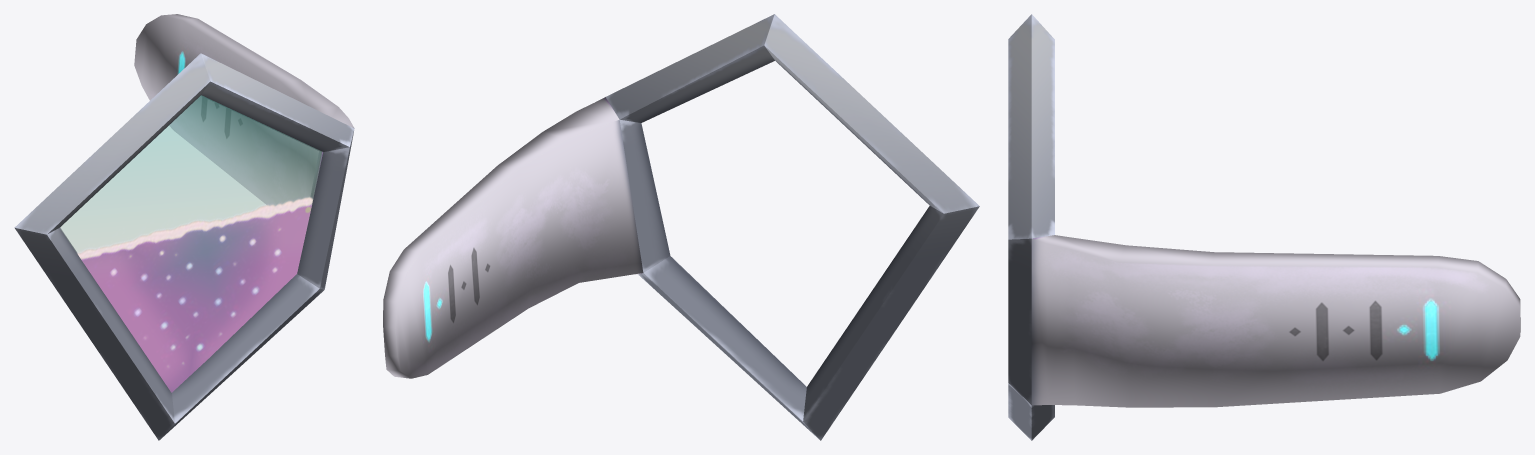
Rendered from U_eyewear_daDichroic.glb.
3 views of the same model, side by side, from view 1: azimuth 30°, elevation 25°; view 2: azimuth 150°, elevation 25°; view 3: azimuth 270°, elevation 25° (orthographic). The views are drawn at different scales.
Parts seen in each view (by area): view 1: M_eWear_monocle_01.001; view 2: M_eWear_monocle_01.001; view 3: M_eWear_monocle_01.001.
Boxes of the visible parts, box(x1,y1,x2,y2) form: M_eWear_monocle_01.001: box(14, 14, 354, 440); M_eWear_monocle_01.001: box(383, 14, 979, 440); M_eWear_monocle_01.001: box(1008, 14, 1520, 440).
Bounding box in the file's own units: 0.129 × 0.1284 × 0.1321.
Materials: 1 (1 with a texture image).
